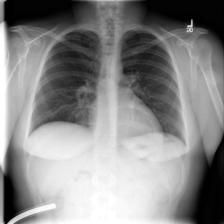normal: (27, 26, 188, 148)
